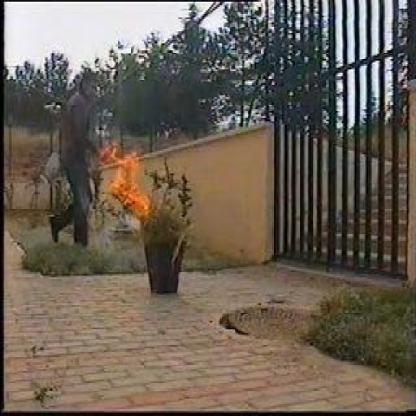foggia-v2-map80-epoch100 - v1 4323: (106, 132, 150, 210)
